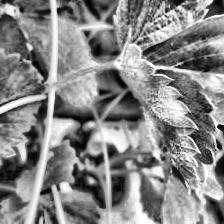Powdery Mildew Leaf: (114, 28, 218, 194)
